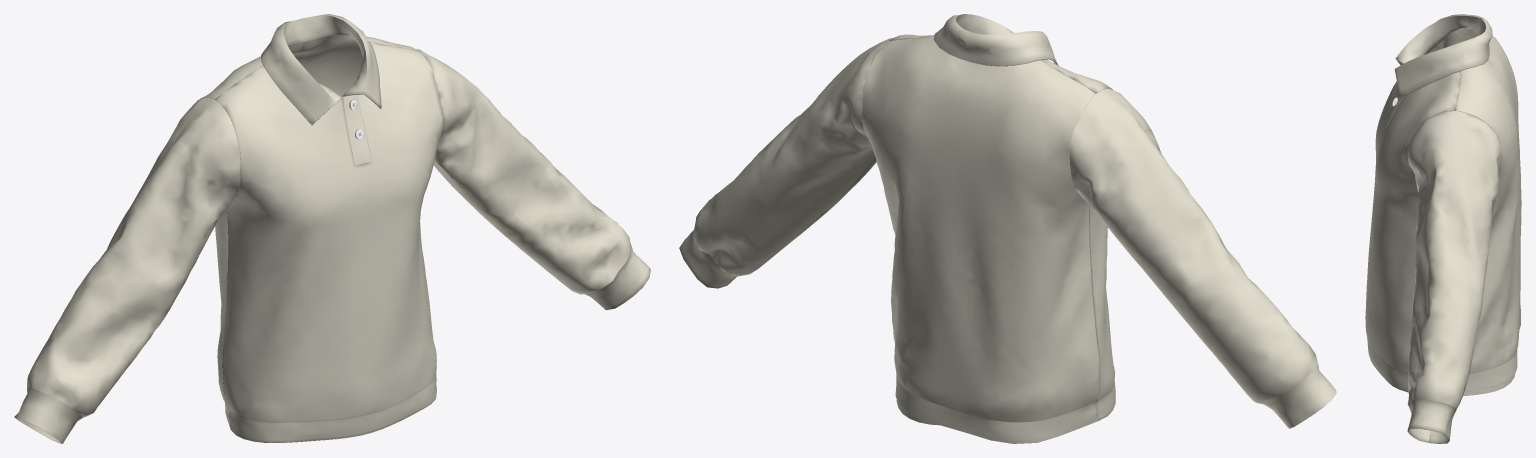
Rendered from FLG_11_05_5.fbx.
The picture shows the model from 3 angles, left to right: view 1: azimuth 30°, elevation 25°; view 2: azimuth 150°, elevation 25°; view 3: azimuth 270°, elevation 25°; orthographic projection. The views are drawn at different scales.
Visible parts, largest first — view 1: FLG_11_05_5; view 2: FLG_11_05_5; view 3: FLG_11_05_5.
Part boxes in pixels (box(x1,y1,x2,y2)): FLG_11_05_5: box(14, 14, 650, 443); FLG_11_05_5: box(679, 14, 1336, 443); FLG_11_05_5: box(1365, 14, 1521, 443).
Bounding box in the file's own units: 115 × 66.14 × 27.9.
